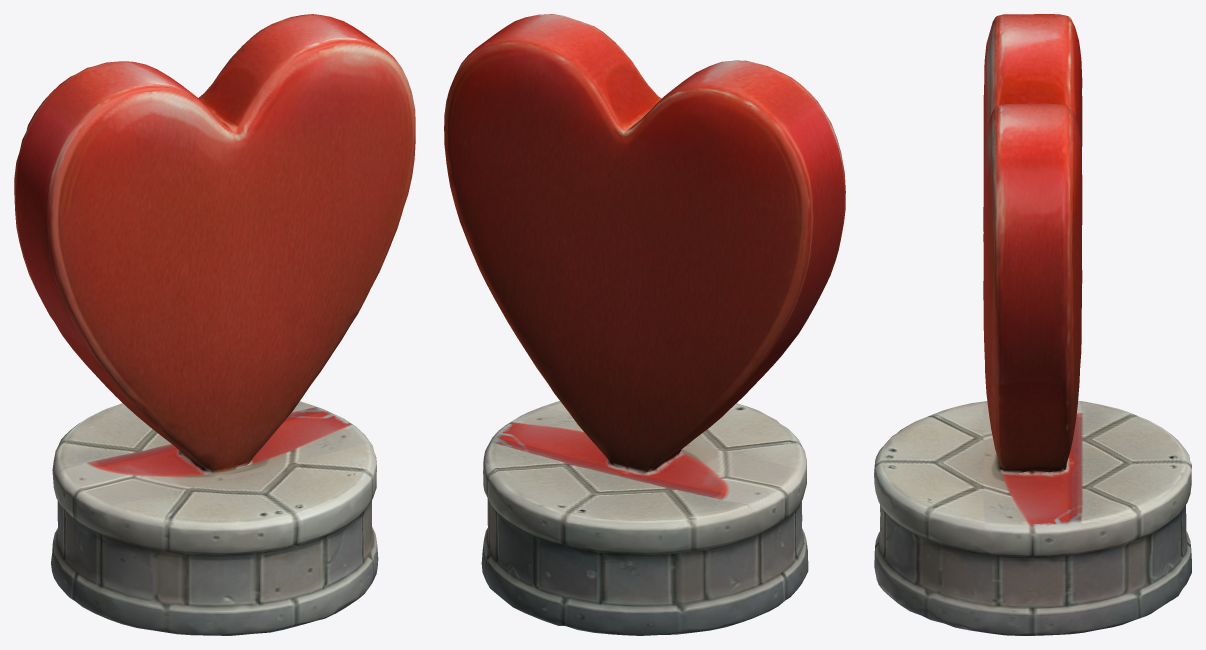
File: 남산_하트동상.glb
3 views of the same model, side by side, from view 1: azimuth 30°, elevation 25°; view 2: azimuth 150°, elevation 25°; view 3: azimuth 270°, elevation 25° (orthographic). The views are drawn at different scales.
Parts seen in each view (by area): view 1: texture_mapping; view 2: texture_mapping; view 3: texture_mapping.
Part boxes in pixels (x1,y1,x2,y2): texture_mapping: [14, 14, 415, 635]; texture_mapping: [444, 14, 845, 635]; texture_mapping: [874, 14, 1191, 635].
Bounding box in the file's own units: 0.7481 × 1 × 0.5742.
1 material, 1 textured.
